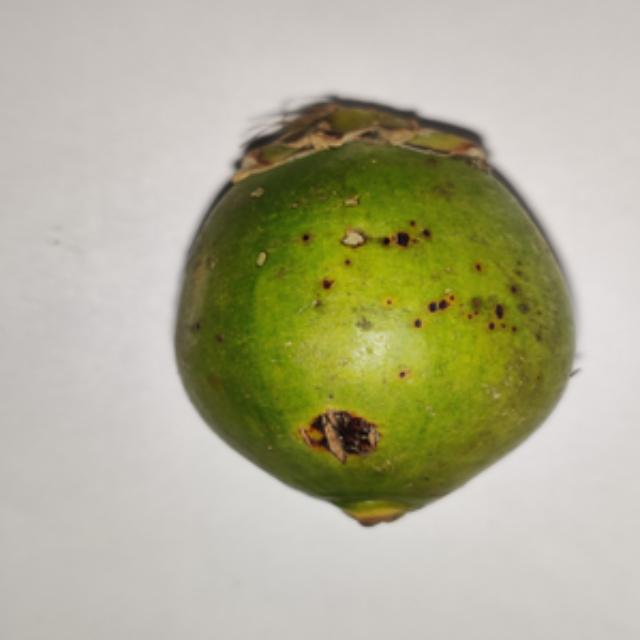damaged: (176, 96, 576, 529)
